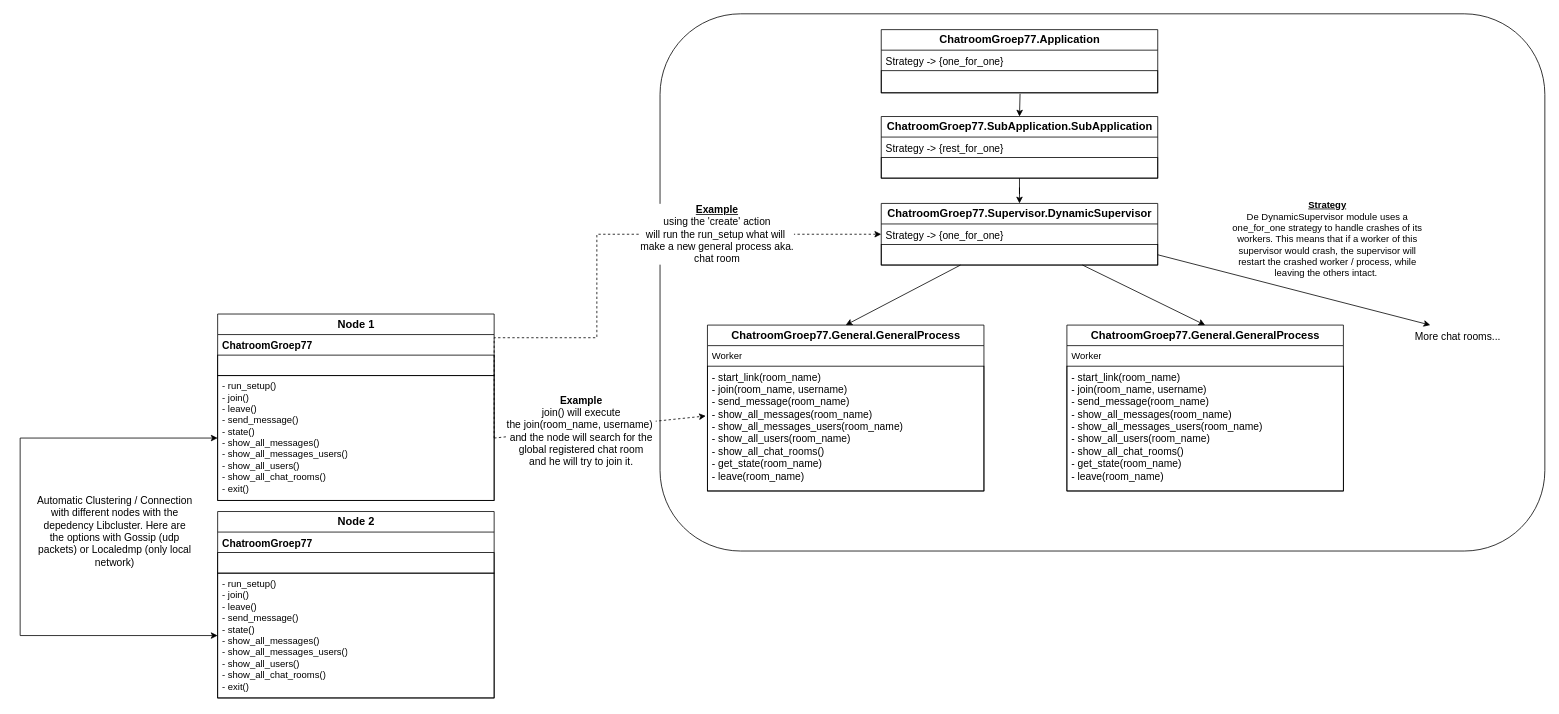
Some shapes in this 1559 by 714 pixel diagram are drawn without their labels. Here are the shapes that lost their labels. From the top down, the centre of each, then its label:
(x=1019, y=81): - start()
(x=1019, y=254): - start_chatroom(room_name)
(x=355, y=365): ping@localhost
(x=355, y=562): pong@localhost
